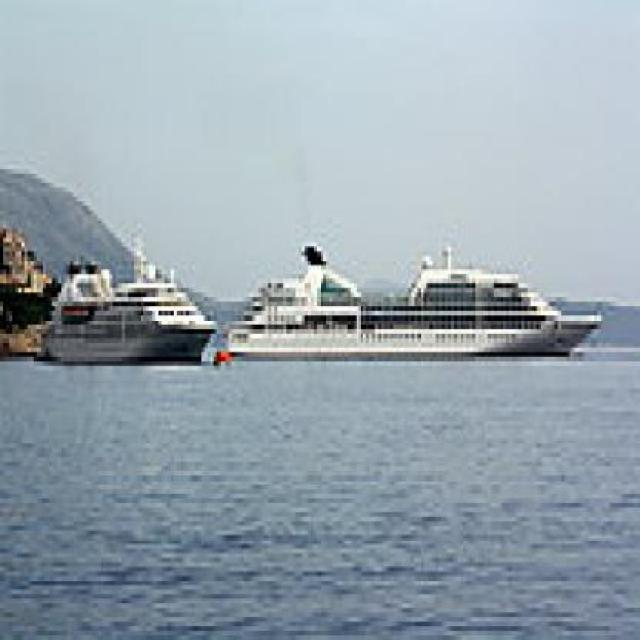cruise: (223, 225, 614, 380), (31, 220, 223, 385)
